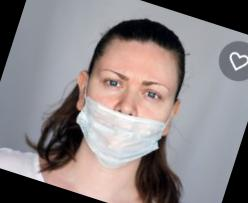mask_weared_incorrect: (73, 57, 182, 174)
